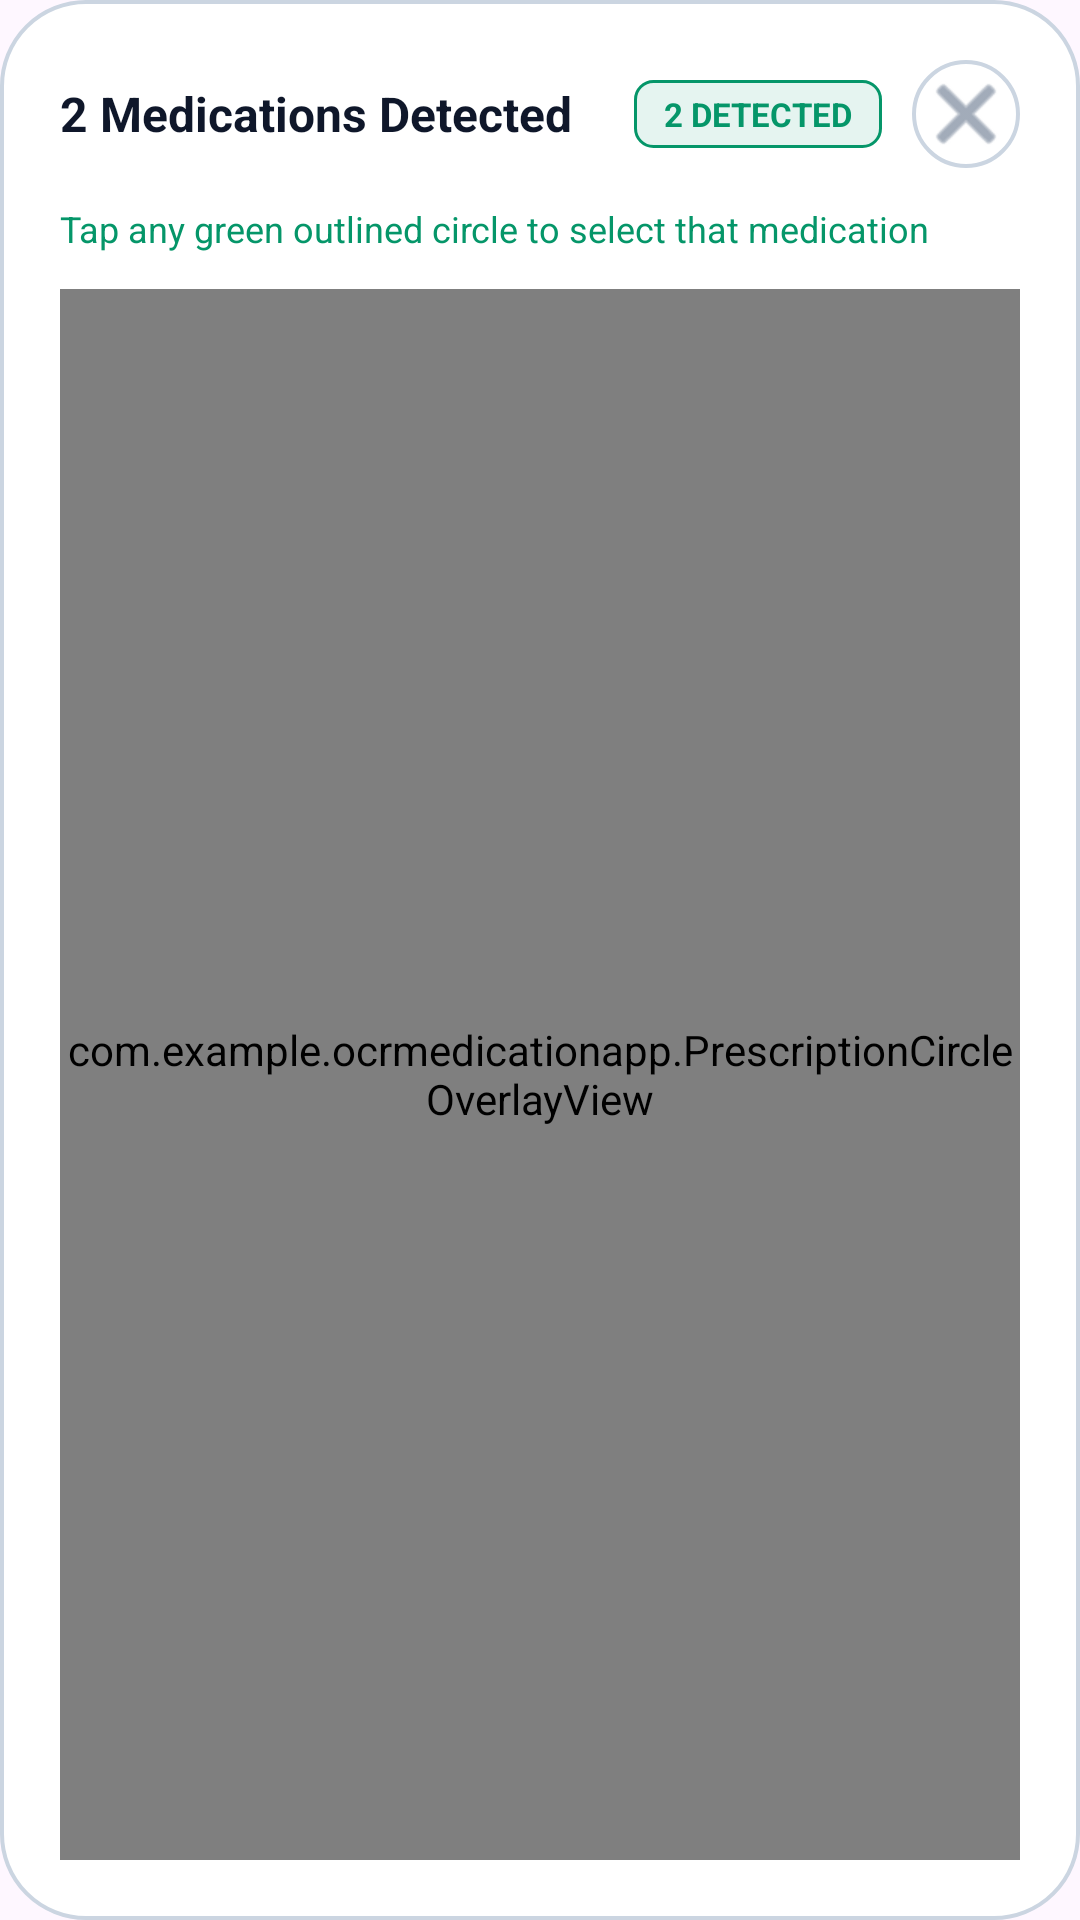

Where icons sit on this 1080 × 1920 app screen, as box=[x1, y1, x2, y2]:
Cancel: box=[912, 60, 1020, 168]
